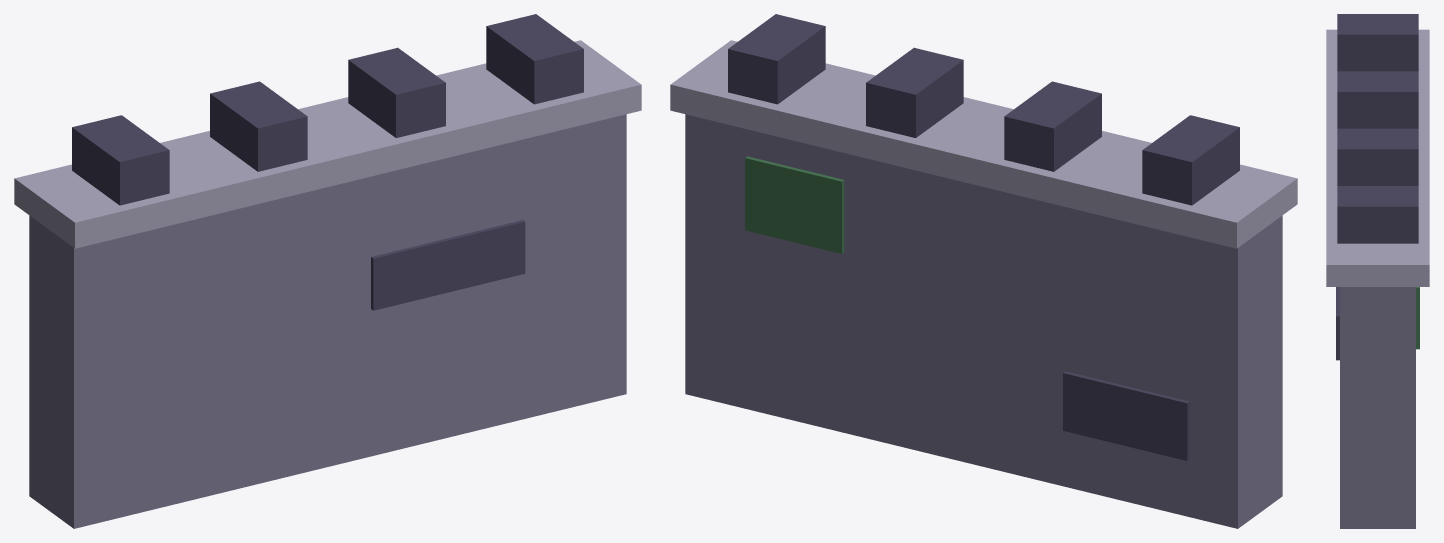
File: Set_Wall.fbx
3 views of the same model, side by side, from view 1: azimuth 30°, elevation 25°; view 2: azimuth 150°, elevation 25°; view 3: azimuth 270°, elevation 25° (orthographic). The views are drawn at different scales.
Visible parts, largest first — view 1: Set_Wall; view 2: Set_Wall; view 3: Set_Wall.
Part boxes in pixels (bbox=[...]): Set_Wall: bbox=[14, 14, 641, 528]; Set_Wall: bbox=[670, 14, 1297, 528]; Set_Wall: bbox=[1326, 14, 1429, 528].
Size of what is drawn, in the model's own units: 4.1 by 2.47 by 0.76.
Materials: 1 (1 with a texture image).
